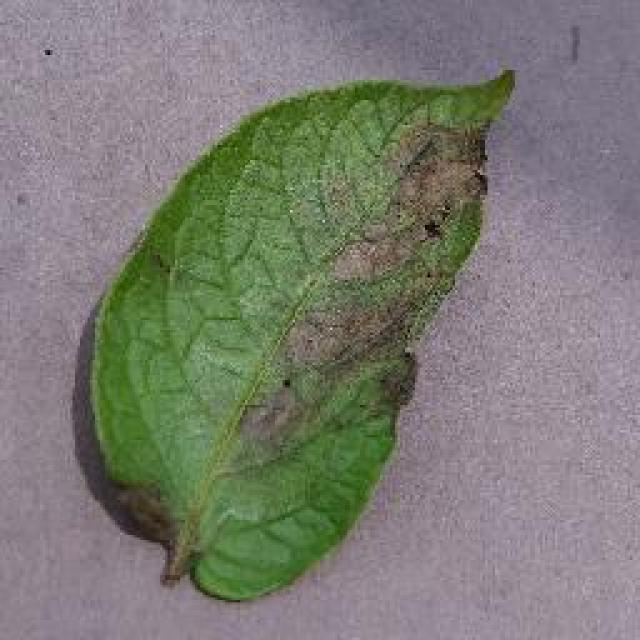Potato___Late_blight: (78, 57, 522, 615)
